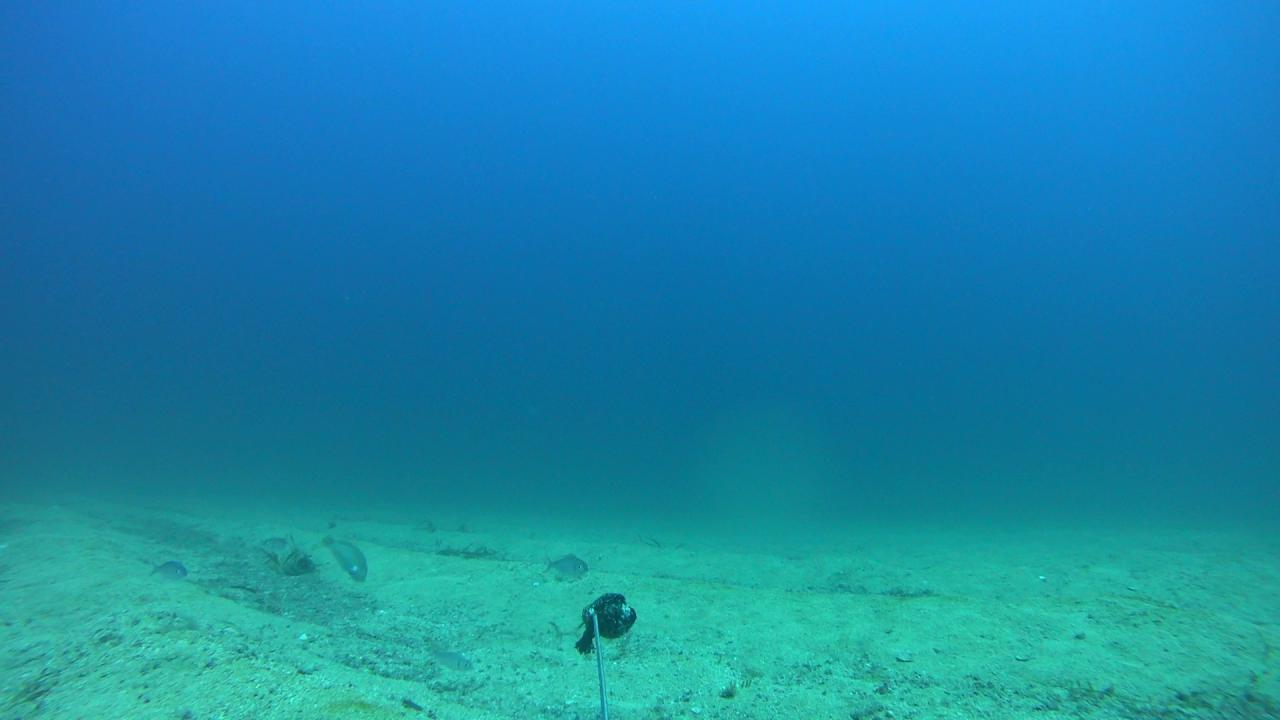pagellus: (543, 553, 588, 578)
